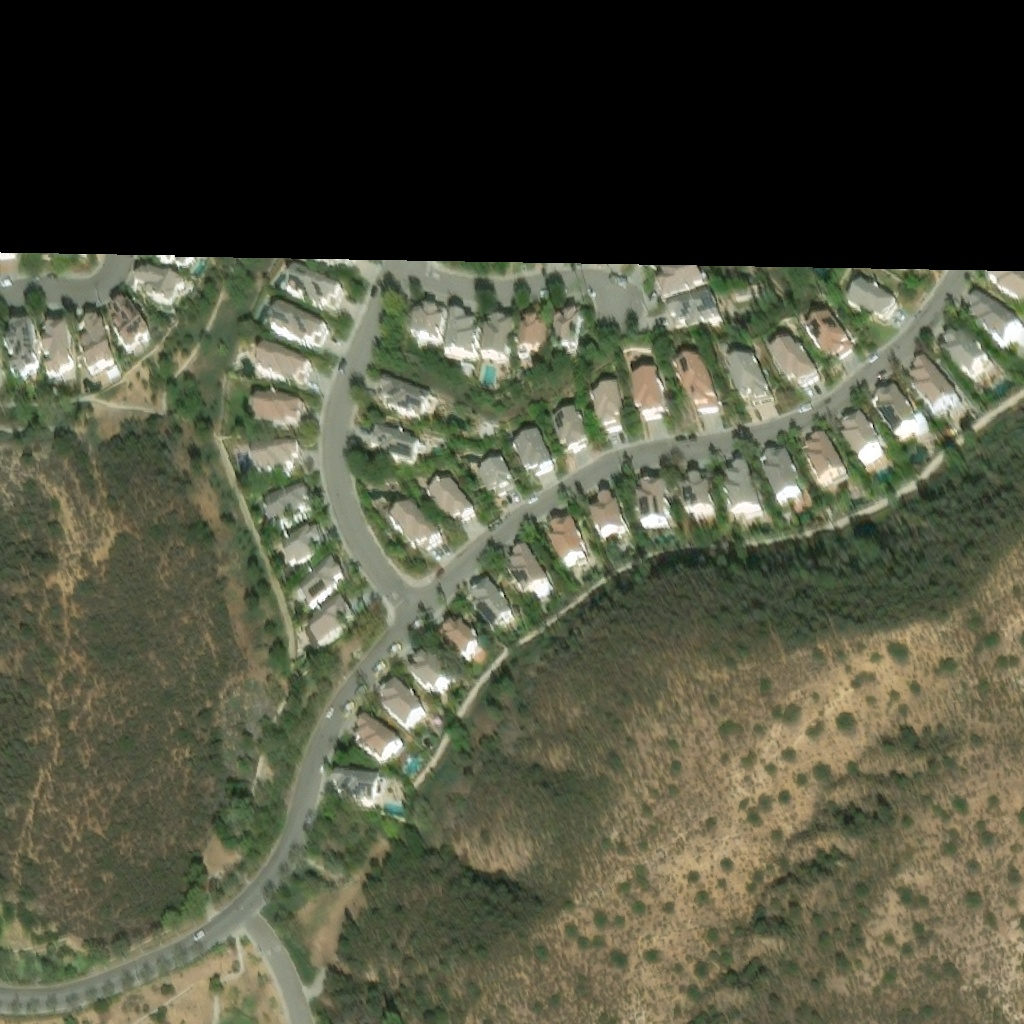0 no-damage: (387, 498, 445, 553), (806, 313, 858, 366), (914, 371, 963, 426), (275, 311, 333, 355), (427, 476, 478, 526), (974, 308, 1023, 359), (771, 342, 821, 391), (354, 716, 402, 766), (509, 553, 555, 605), (292, 272, 347, 315), (682, 367, 724, 422), (948, 344, 996, 392), (660, 272, 711, 317), (308, 601, 355, 649), (301, 561, 347, 610), (259, 352, 315, 392), (846, 423, 889, 475), (882, 399, 925, 451), (849, 285, 902, 327), (594, 388, 635, 442), (673, 302, 727, 343), (381, 682, 426, 731), (474, 586, 517, 637), (332, 768, 386, 808), (811, 444, 853, 495), (514, 425, 557, 474), (140, 278, 192, 318), (441, 621, 487, 666), (112, 307, 154, 356), (378, 377, 430, 416), (410, 653, 456, 697), (265, 489, 314, 530), (769, 461, 808, 512), (552, 408, 594, 454), (281, 527, 329, 567), (256, 401, 309, 436), (731, 474, 766, 526), (84, 322, 117, 377), (154, 248, 204, 284), (596, 504, 633, 552), (372, 427, 420, 464), (476, 453, 518, 495), (734, 362, 774, 405), (555, 526, 590, 575), (636, 381, 670, 430), (2, 318, 34, 370), (42, 324, 74, 376), (443, 301, 477, 349), (478, 302, 510, 348), (684, 484, 720, 524), (408, 295, 443, 335), (304, 251, 361, 275), (645, 493, 675, 538), (255, 448, 303, 476), (552, 305, 581, 347), (516, 303, 547, 341), (638, 257, 680, 281), (998, 274, 1023, 313), (893, 261, 936, 279), (44, 247, 96, 261), (868, 461, 893, 483), (286, 271, 300, 299), (305, 628, 321, 651), (416, 332, 438, 344), (701, 521, 721, 534), (749, 519, 768, 531), (541, 593, 558, 606), (442, 345, 462, 356), (839, 486, 856, 497), (953, 408, 967, 421), (109, 373, 123, 386), (426, 390, 436, 407), (394, 745, 406, 759), (815, 311, 830, 322), (693, 362, 710, 371), (707, 284, 716, 297), (252, 403, 261, 416), (519, 422, 531, 431), (417, 442, 426, 454), (883, 450, 893, 460), (989, 374, 998, 384), (298, 589, 306, 600), (745, 358, 757, 365), (441, 687, 450, 696), (277, 310, 284, 321), (64, 371, 75, 378), (251, 449, 255, 466), (783, 341, 792, 347), (25, 366, 35, 370), (495, 347, 504, 351), (652, 379, 660, 382)
